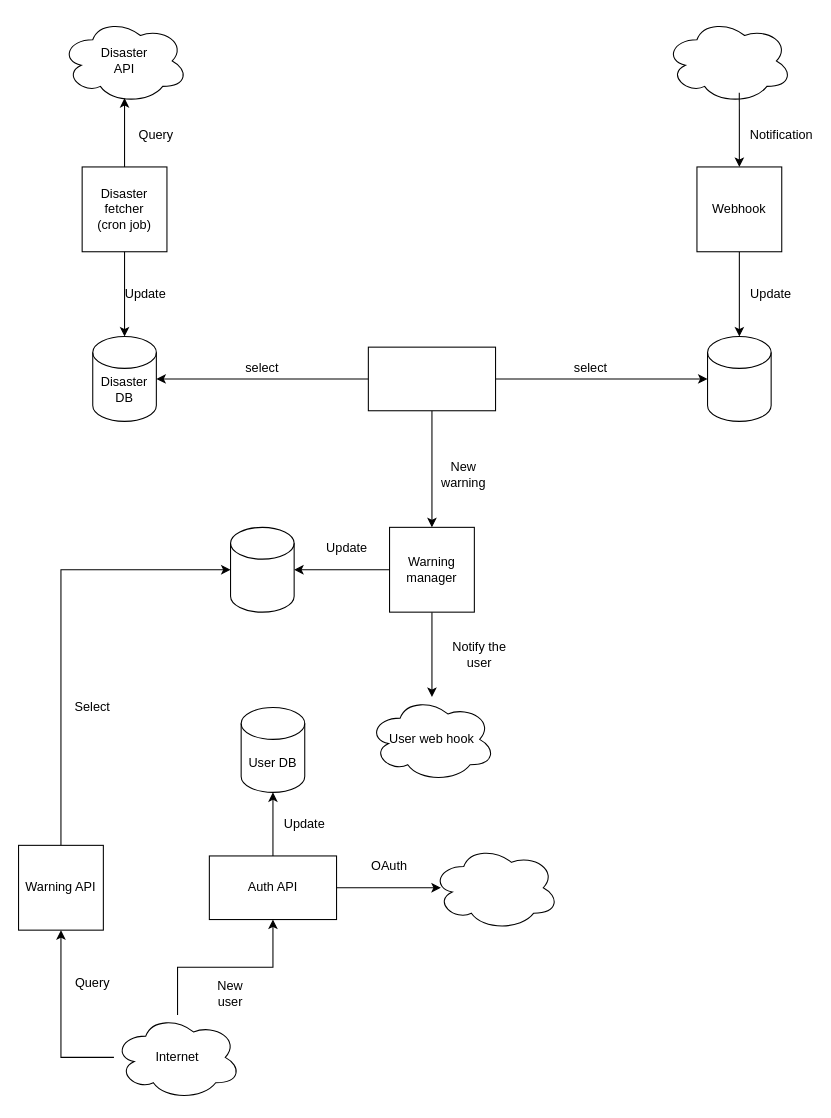
The diagram is 831 pixels wide and 1118 high, and some of its shapes have lost their labels. Each missing label, with the centre of its shape:
Calendar: (728,60)
Calendar event DB: (738,378)
Google API: (495,887)
Warning DB: (261,569)
Warning producer (cron job): (431,378)
